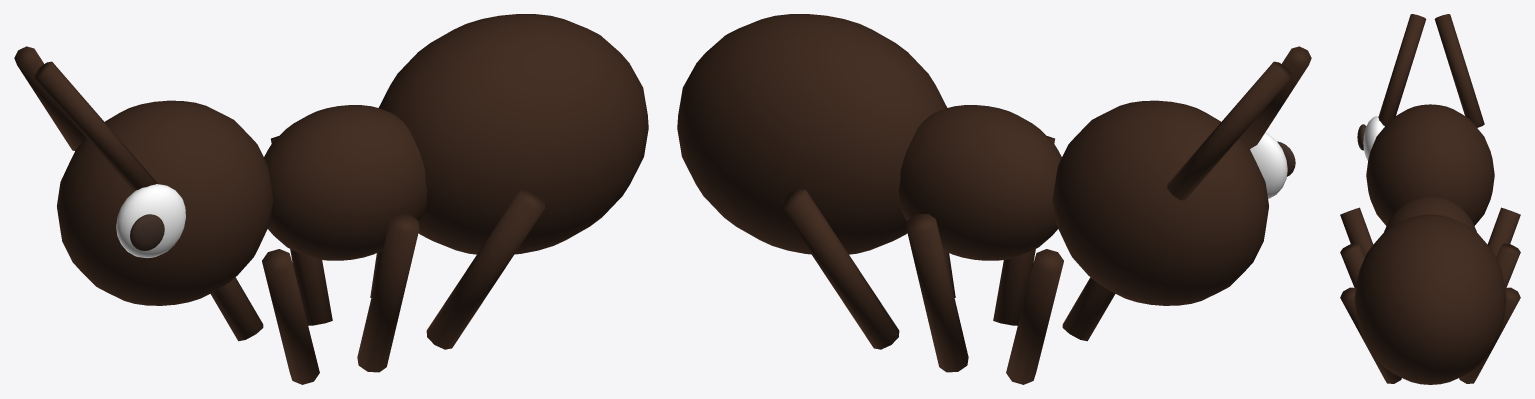
Rendered from Ant.fbx.
The picture shows the model from 3 angles, left to right: view 1: azimuth 30°, elevation 25°; view 2: azimuth 150°, elevation 25°; view 3: azimuth 270°, elevation 25°; orthographic projection. The views are drawn at different scales.
Visible parts, largest first — view 1: Ant; view 2: Ant; view 3: Ant.
Boxes of the visible parts, x1,y1,x2,y2 form: Ant: (14, 14, 648, 384); Ant: (677, 14, 1311, 384); Ant: (1340, 14, 1520, 384).
Bounding box in the file's own units: 0.8155 × 0.4664 × 0.3093.
